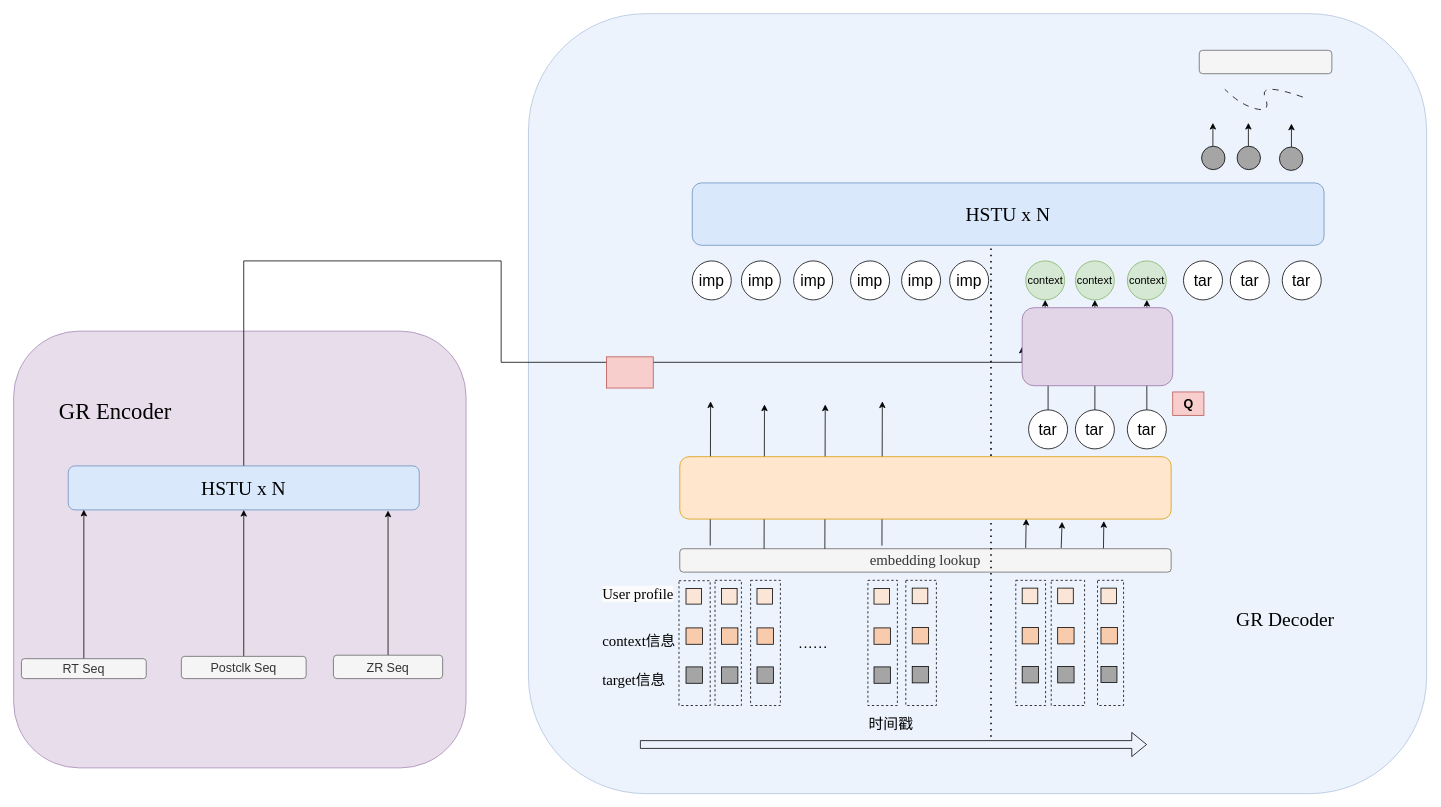
This 1441x807 diagram has some shape labels left out. Here are the shapes that lost their labels. From the top down, the centre of each, then its label:
At pixel 1265 62: "BCE loss".
At pixel 1097 346: "Cross-Domain Attention Module".
At pixel 629 372: "KV".
At pixel 925 487: "Tokenmixer large x 1".
